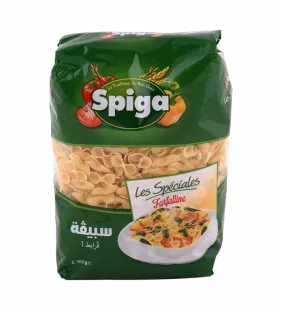SPIGA: (43, 20, 244, 291)
